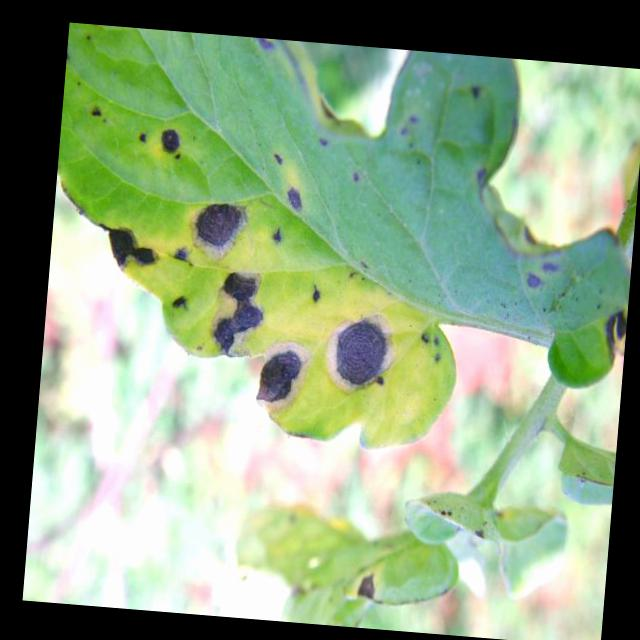Early_blight: (319, 309, 398, 401), (249, 339, 318, 421), (208, 268, 267, 360), (187, 198, 254, 263), (91, 221, 163, 278), (597, 306, 627, 370), (522, 259, 559, 295), (157, 127, 185, 167), (352, 569, 382, 605), (282, 182, 307, 217), (305, 280, 326, 306), (252, 37, 278, 57), (173, 246, 191, 270), (269, 222, 284, 249), (170, 295, 193, 312), (88, 102, 105, 125), (316, 135, 332, 152), (270, 154, 285, 169), (135, 131, 150, 146), (468, 86, 483, 101), (348, 173, 359, 186)
